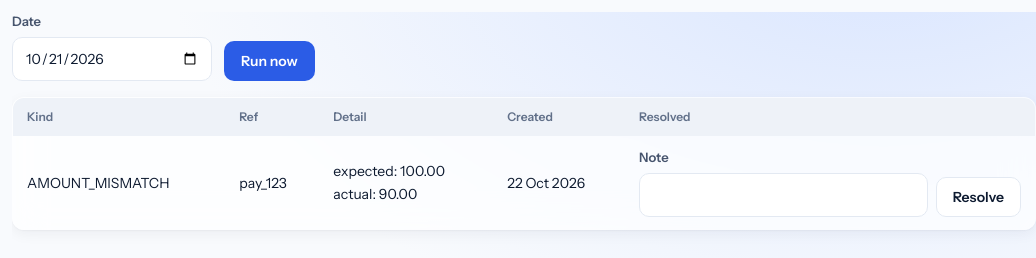
Test: reloads when the date changes
Type "2026-10-20" into the date field labelled "Date".
click(112, 59); type("2026-10-20")  # box x1=12 y1=37 x2=212 y2=81
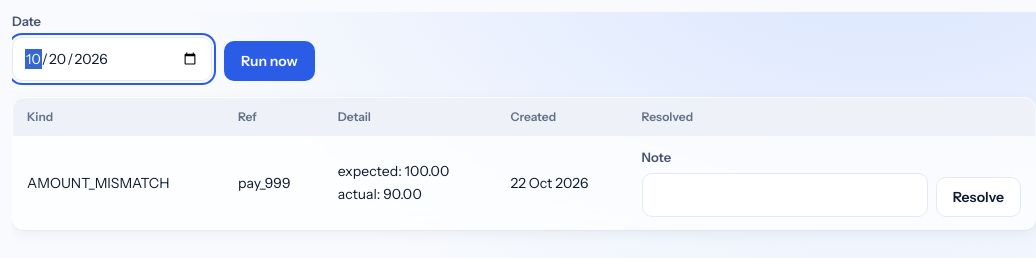
Check: the text "pay_999" is shown, box x1=238 y1=174 x2=291 y2=192
